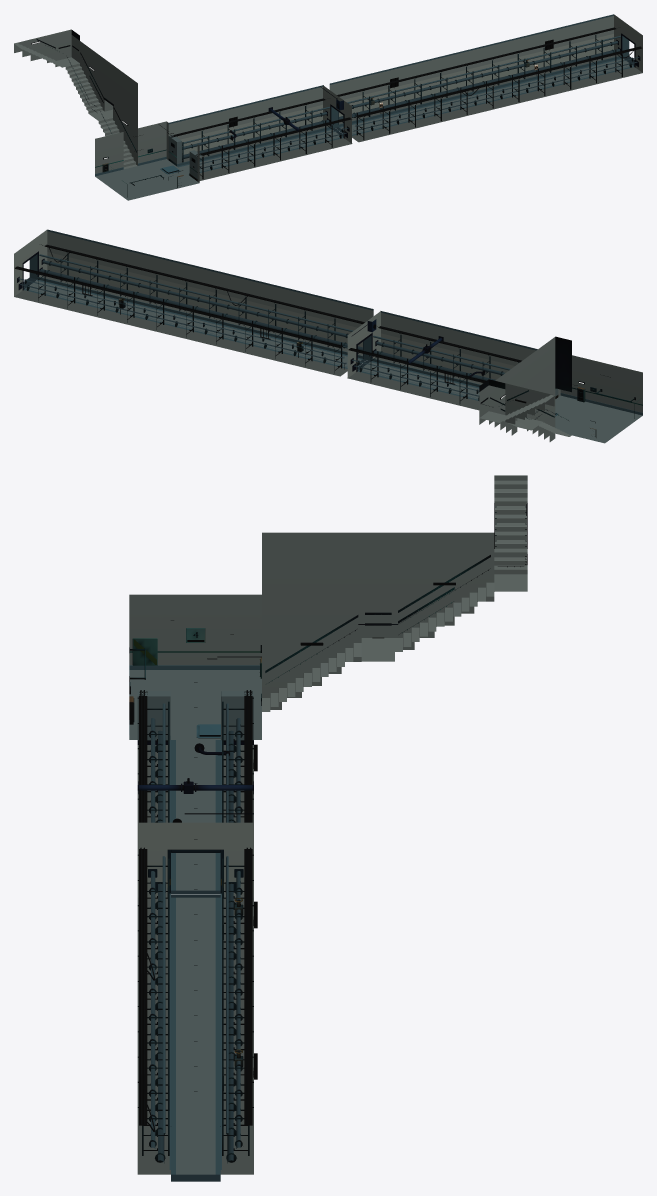
The model's file is env_the_gallery.glb.
3 renders of one model, top to bottom at view 1: azimuth 30°, elevation 25°; view 2: azimuth 150°, elevation 25°; view 3: azimuth 270°, elevation 25°, orthographic. The views are drawn at different scales.
Visible parts, largest first — view 1: chunk_gl_gallery__m_pellam, chunk_gl_stair__m_pellam, chunk_gl_bay__m_pellam; view 2: chunk_gl_gallery__m_pellam, chunk_gl_stair__m_pellam, chunk_gl_bay__m_pellam; view 3: chunk_gl_gallery__m_pellam, chunk_gl_stair__m_pellam, chunk_gl_bay__m_pellam.
Part boxes in pixels (box(x1,y1,x2,y2)): chunk_gl_gallery__m_pellam: box(168, 14, 642, 180); chunk_gl_stair__m_pellam: box(14, 29, 137, 167); chunk_gl_bay__m_pellam: box(95, 121, 199, 200); chunk_gl_gallery__m_pellam: box(14, 229, 537, 410); chunk_gl_stair__m_pellam: box(479, 336, 571, 441); chunk_gl_bay__m_pellam: box(553, 355, 642, 443); chunk_gl_gallery__m_pellam: box(137, 682, 257, 1181); chunk_gl_stair__m_pellam: box(262, 475, 527, 709); chunk_gl_bay__m_pellam: box(129, 594, 270, 739).
Size of the model in its own units: 75.02 by 12.8 by 24.
